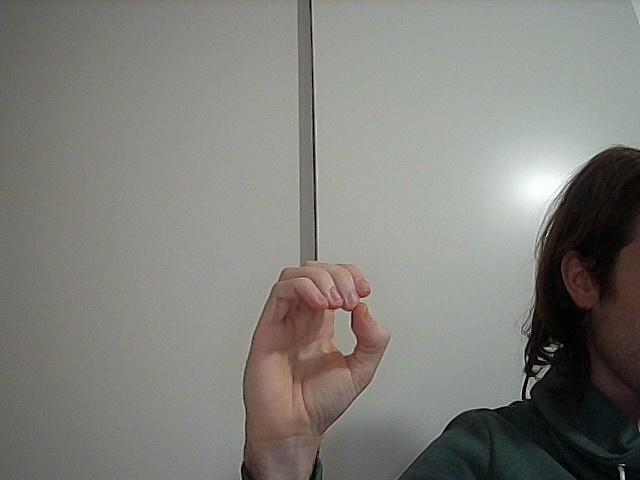o: (229, 248, 396, 436)
